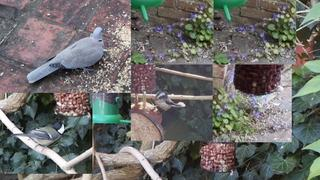collared dove: (27, 27, 104, 84)
great tit: (10, 120, 66, 153)
long tailed tit: (151, 91, 186, 115)
